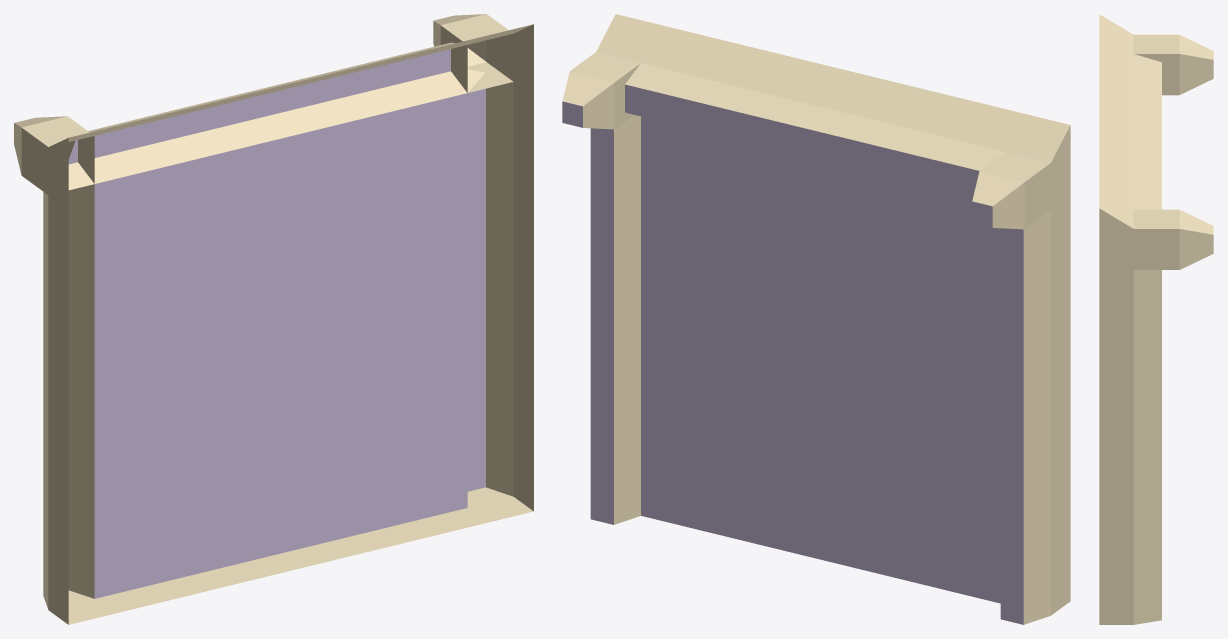
3 views of the same model, side by side, from view 1: azimuth 30°, elevation 25°; view 2: azimuth 150°, elevation 25°; view 3: azimuth 270°, elevation 25° (orthographic). The views are drawn at different scales.
Visible parts, largest first — view 1: Object99; view 2: Object99; view 3: Object99.
Boxes of the visible parts, x1,y1,x2,y2 form: Object99: (14,14,533,624); Object99: (562,14,1070,624); Object99: (1099,14,1213,624).
Size of the model in its own units: 39958 by 39992 by 9970.
